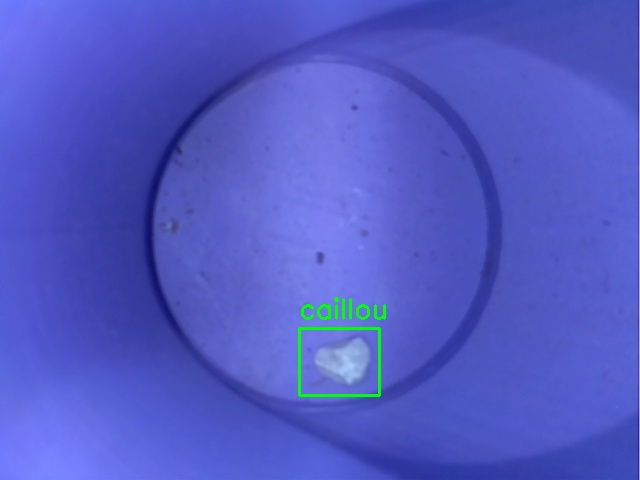caillou: (299, 328, 379, 395)
